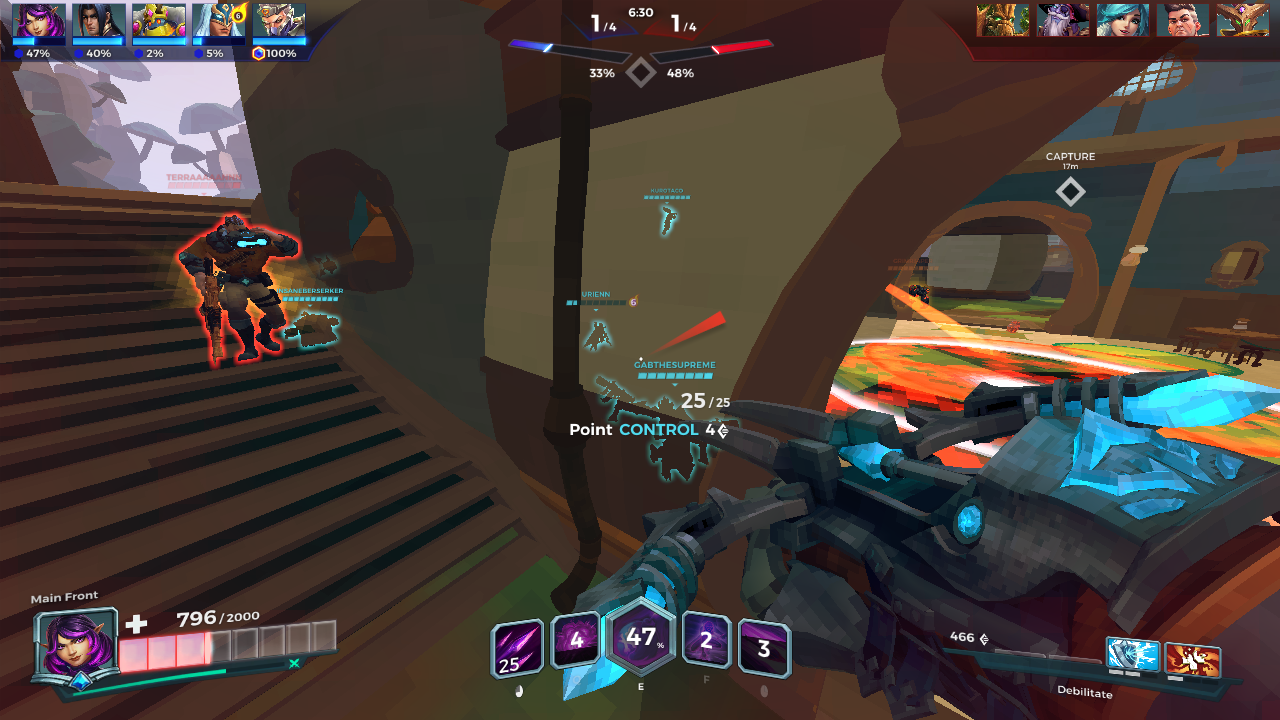model: (173, 202, 303, 372)
